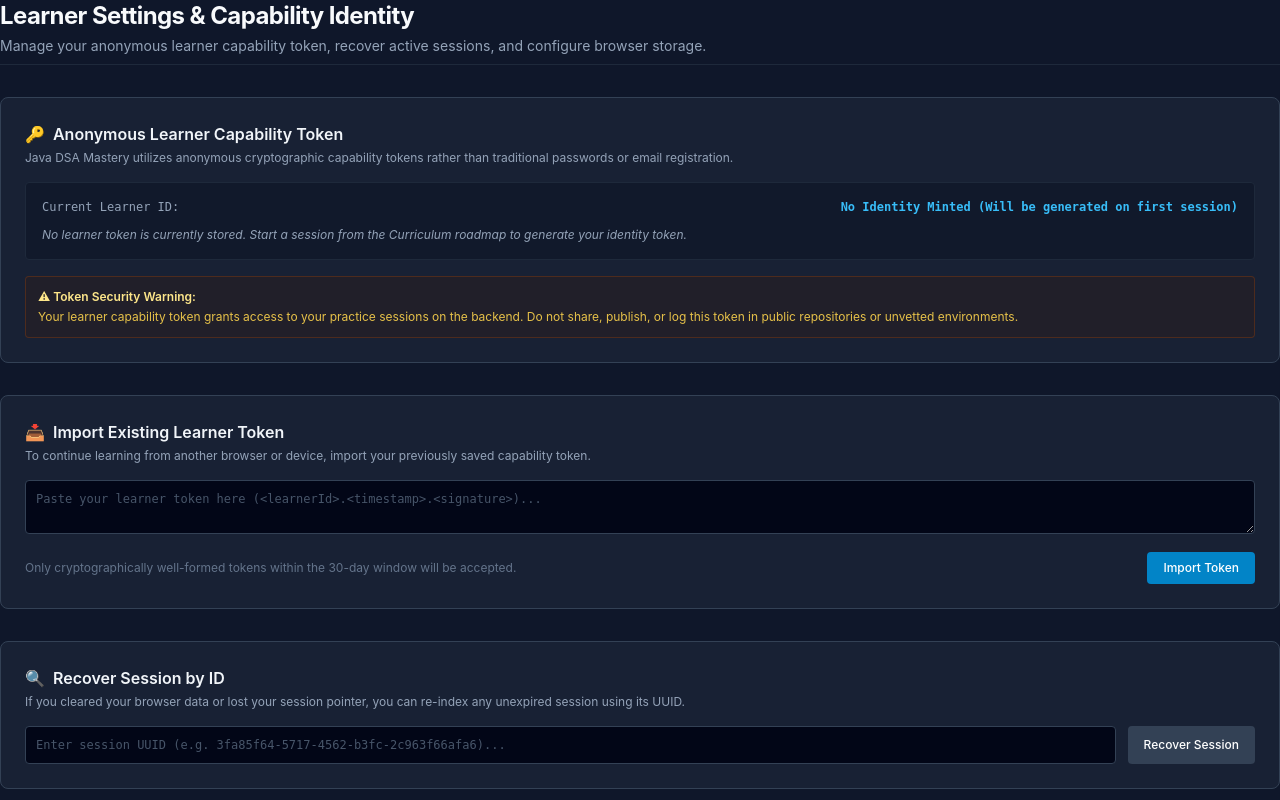
SettingsView Component › validates UUID format before attempting session recovery
Type "not-a-valid-uuid" into the field with test id "input-recovery-session-id" at point(570, 745), box [25,726,1116,764]
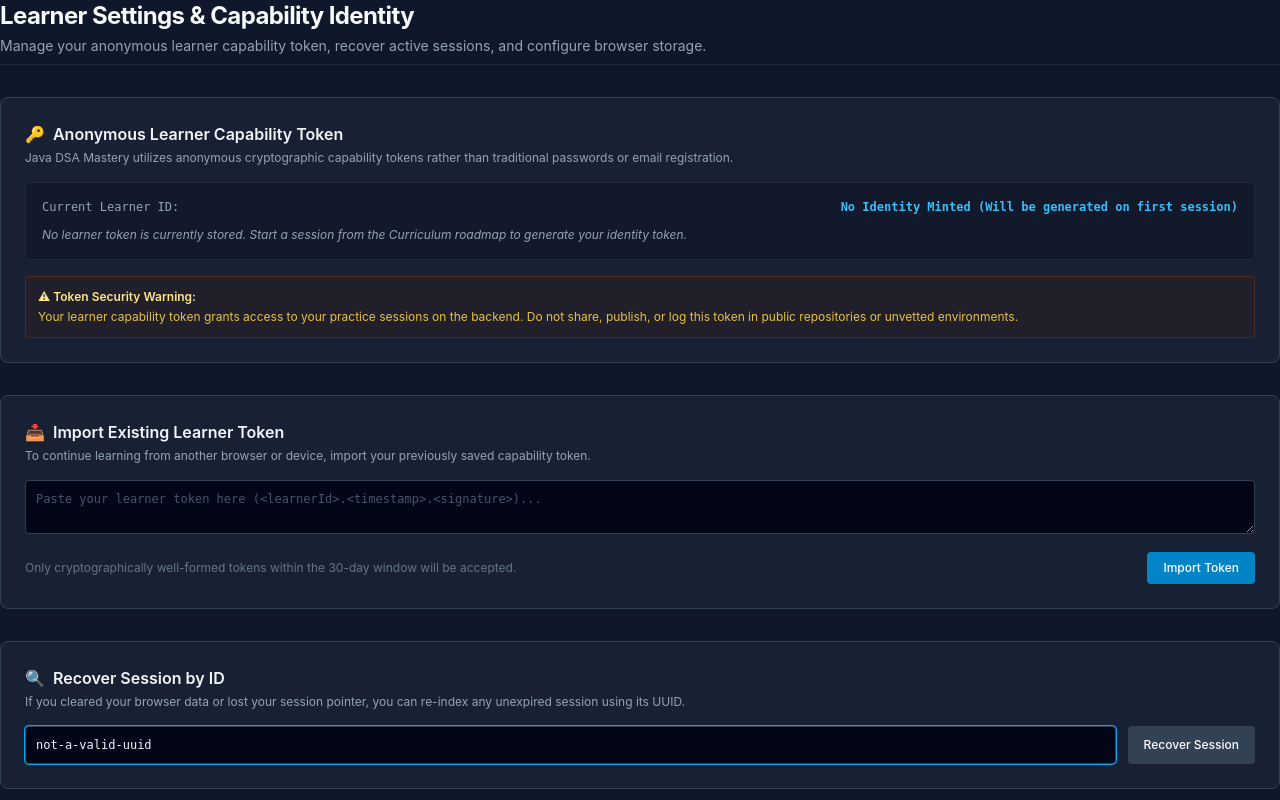
Click the button with test id "btn-recover-session" at point(1191, 745), box [1128,726,1255,764]
(page scrolled)
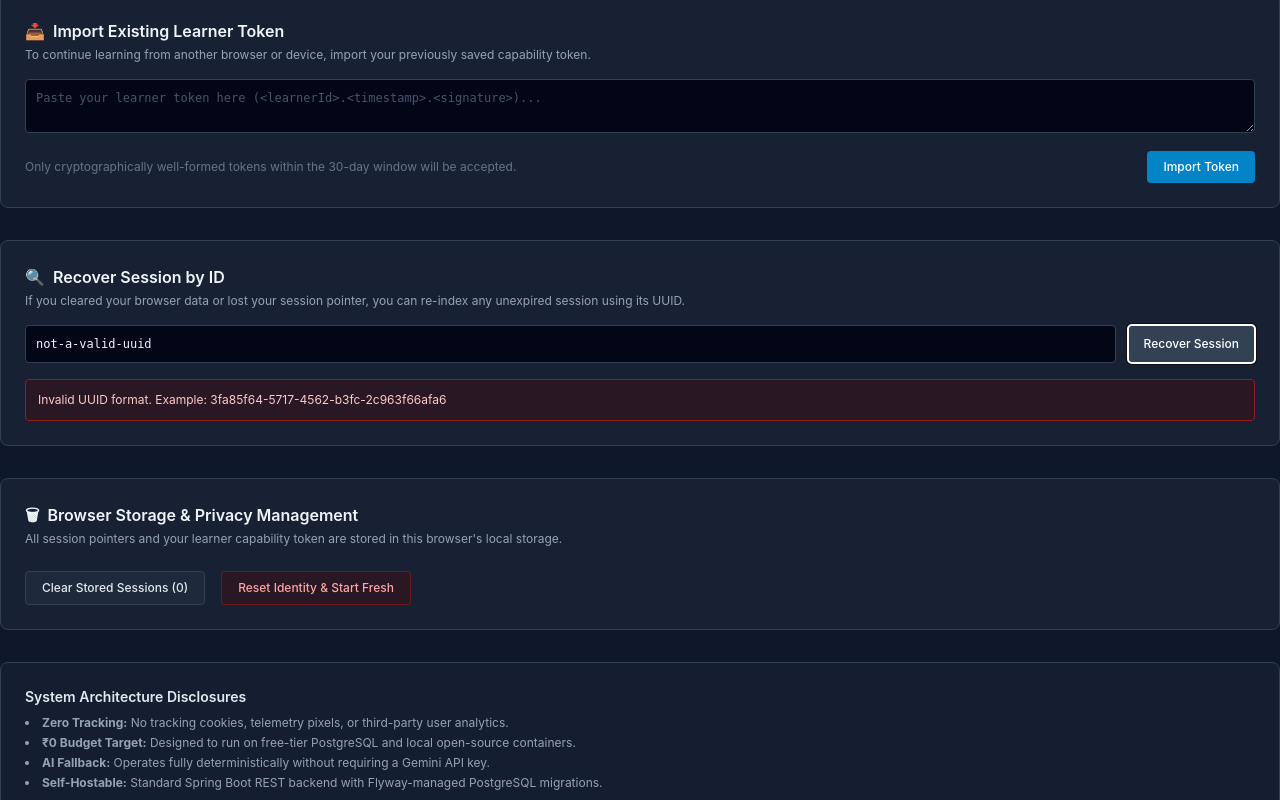
Now the text "Invalid UUID format. Example: 3fa85f64-5717-4562-b3fc-2c963f66afa6" is shown, box [25,379,1255,421]
